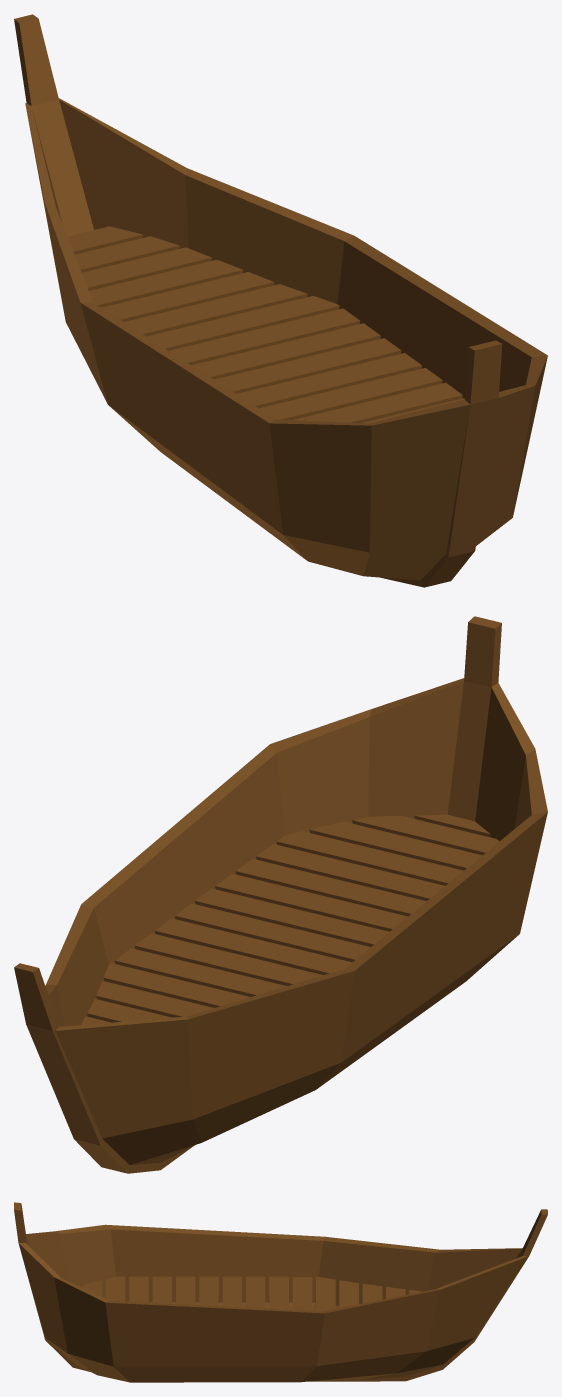
The model's file is Ferry01.fbx.
The picture shows the model from 3 angles, top to bottom: view 1: azimuth 30°, elevation 25°; view 2: azimuth 150°, elevation 25°; view 3: azimuth 270°, elevation 25°; orthographic projection. The views are drawn at different scales.
Visible parts, largest first — view 1: Ferry01; view 2: Ferry01; view 3: Ferry01.
Part boxes in pixels (x1=…): Ferry01: x1=14, y1=14, x2=547, y2=587; Ferry01: x1=14, y1=616, x2=547, y2=1173; Ferry01: x1=14, y1=1202, x2=547, y2=1382.
Bounding box in the file's own units: 458 × 470 × 1327.
